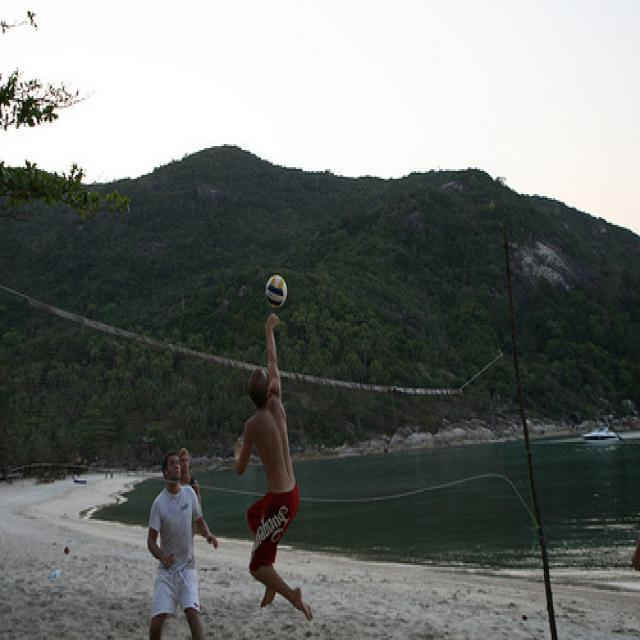volleyball: (266, 276, 287, 308)
